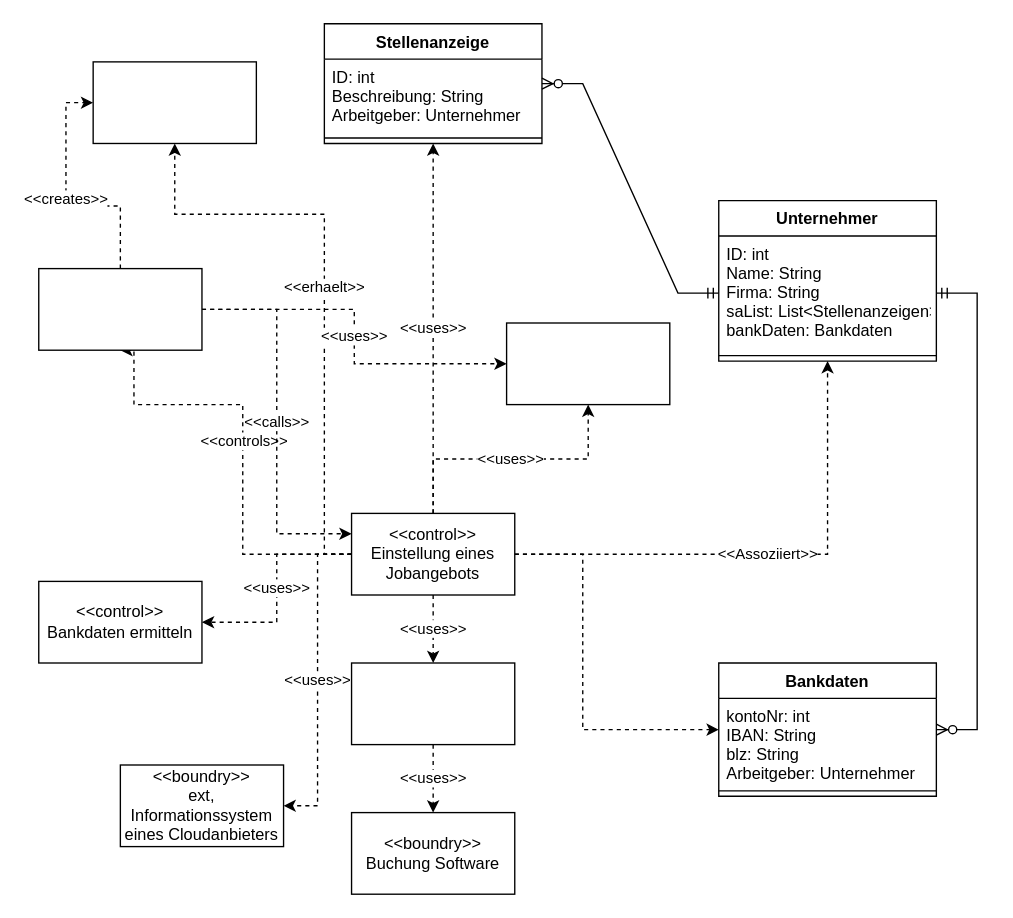
Some shapes in this 1013 by 918 pixel diagram are drawn without their labels. The centre of each missing label's shape, as x and y in pixels:
<<boundry>> Seite zur Einstellung des Jobangebotes: (x=119, y=308)
<<control>> Buchung durchfuehren: (x=432, y=703)
<<dto>> Auftrag des Jobangebots: (x=174, y=102)
<<dto>> Bestaetigung: (x=587, y=363)
